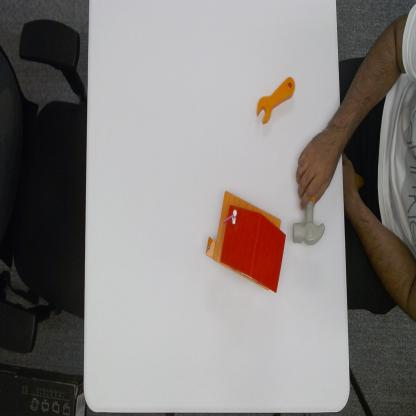Hammer: (292, 201, 326, 246)
Hand: (295, 119, 343, 206)
House: (204, 188, 288, 294)
Screwdriver: (254, 73, 298, 127)
